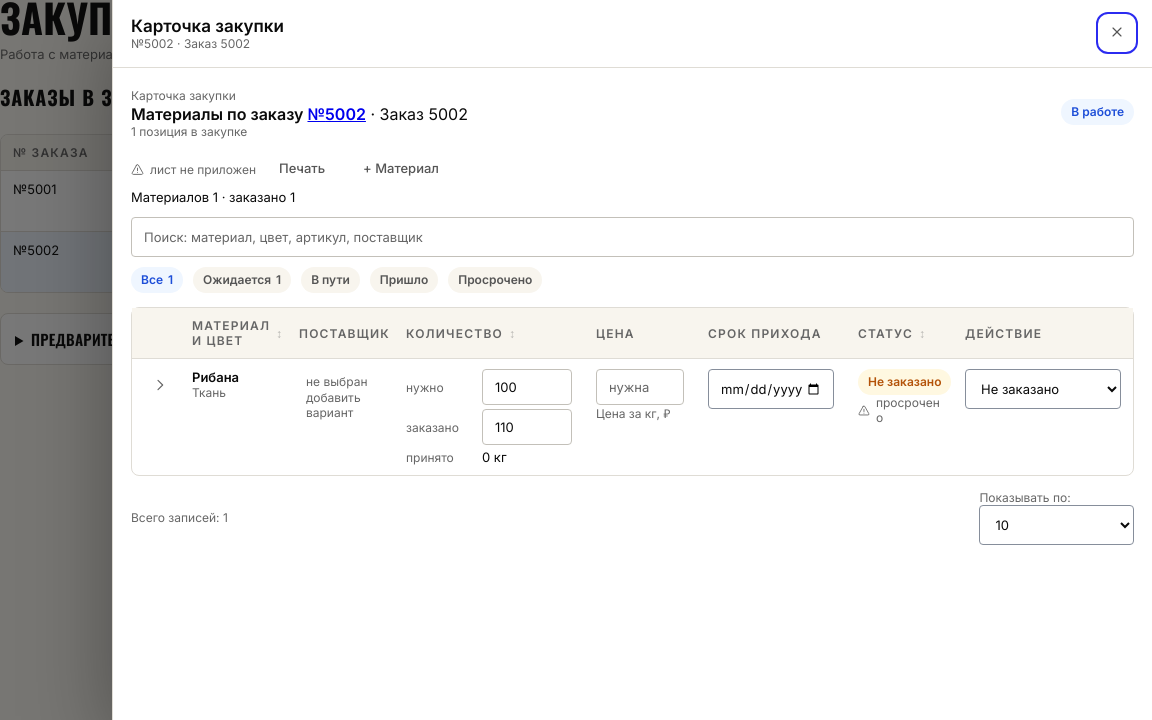
Test: Закупка — карточка в широкой панели › «+ Материал» открывает форму с уже выбранным заказом
The width and height of the screenshot is (1152, 720).
Click the button "+ Материал": [401, 169] box left=348, top=149, right=454, bottom=189
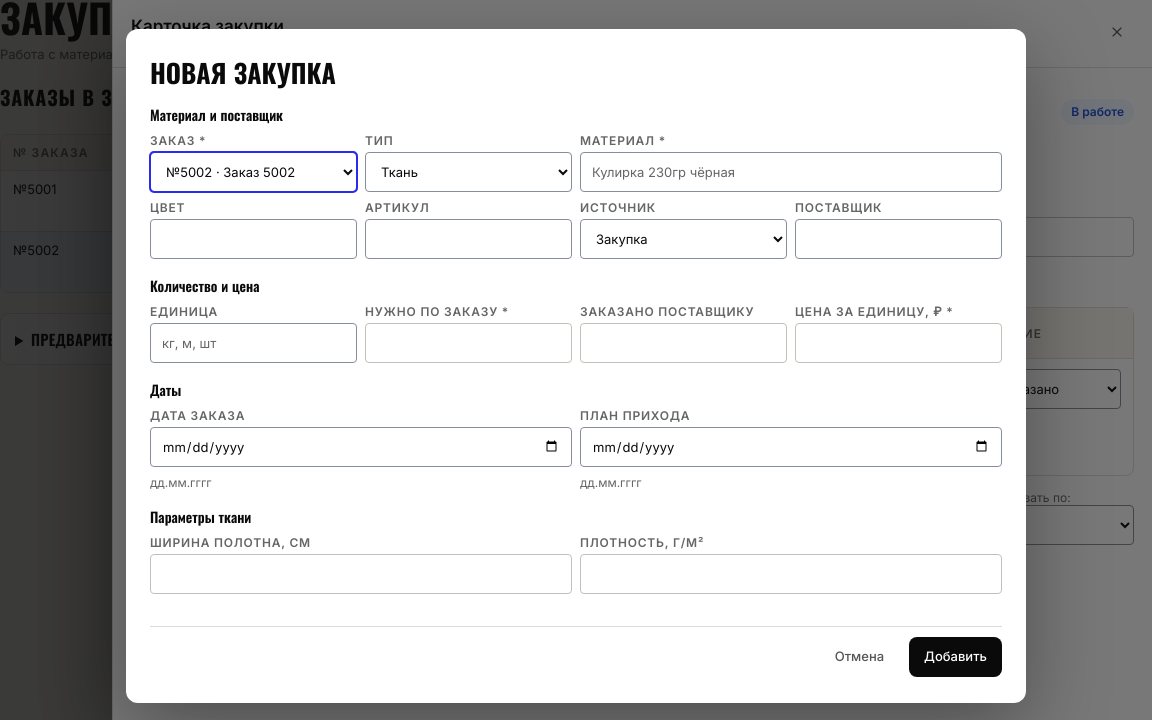
expect the dropdown labelled "Заказ" shows "№5002 · Заказ 5002": met, box left=150, top=152, right=357, bottom=192
